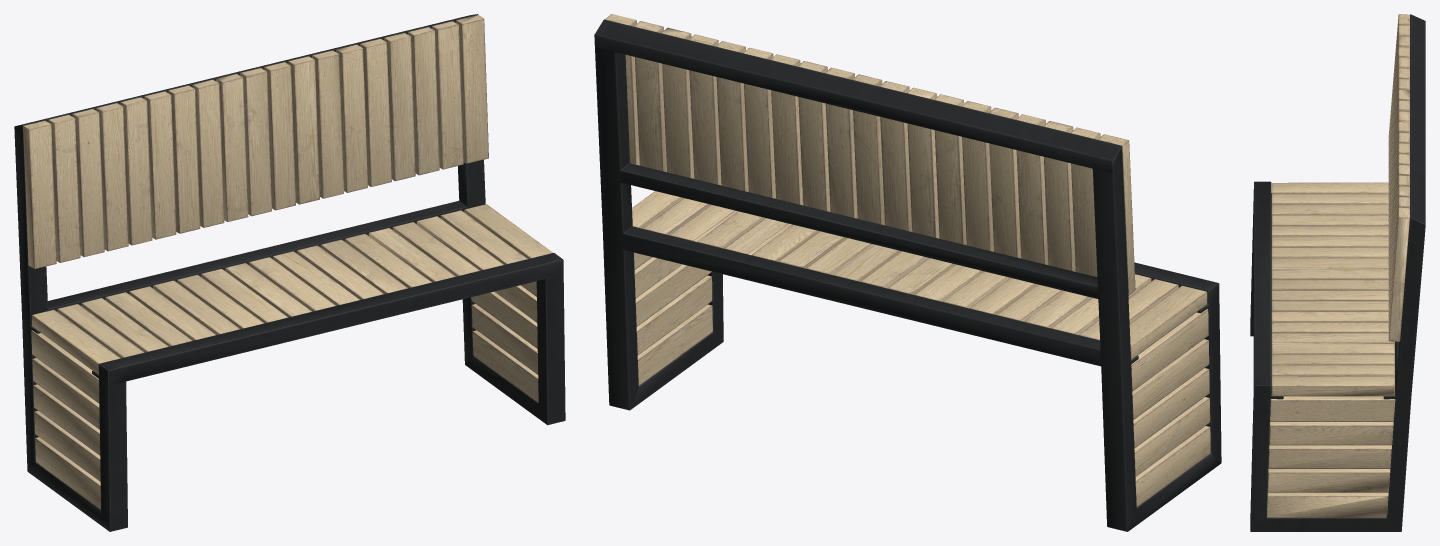
File: c07eef6b-349e-487a-8315-c58fe9aa1d44.glb
3 views of the same model, side by side, from view 1: azimuth 30°, elevation 25°; view 2: azimuth 150°, elevation 25°; view 3: azimuth 270°, elevation 25° (orthographic). The views are drawn at different scales.
Visible parts, largest first — view 1: Park bench-Metal.001, Park bench-Metal; view 2: Park bench-Metal.001, Park bench-Metal; view 3: Park bench-Metal.001, Park bench-Metal.
Boxes of the visible parts, <box> form: Park bench-Metal.001: <box>23,15,552,509</box>; Park bench-Metal: <box>14,14,565,531</box>; Park bench-Metal.001: <box>605,14,1210,507</box>; Park bench-Metal: <box>594,19,1221,531</box>; Park bench-Metal.001: <box>1267,14,1409,517</box>; Park bench-Metal: <box>1250,14,1425,531</box>.
Bounding box in the file's own units: 1.25 × 0.9 × 0.4551.
Materials: 2 (2 with a texture image).
